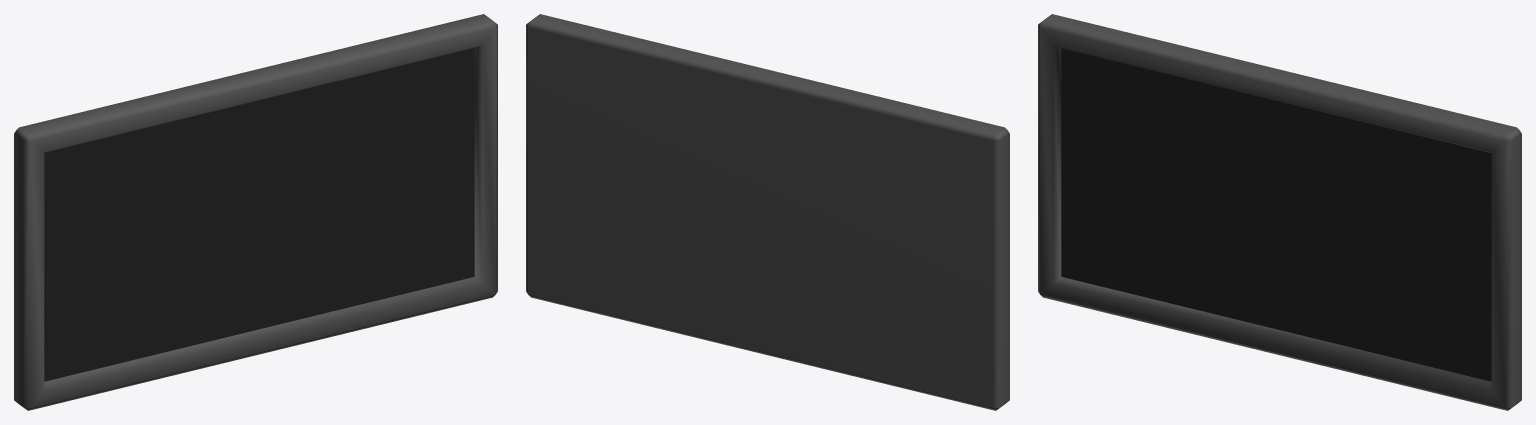
The model's file is electronics_001.fbx.
The picture shows the model from 3 angles, left to right: view 1: azimuth 30°, elevation 25°; view 2: azimuth 150°, elevation 25°; view 3: azimuth 330°, elevation 25°; orthographic projection.
Parts seen in each view (by area): view 1: electronics_001; view 2: electronics_001; view 3: electronics_001.
Boxes of the visible parts, x1,y1,x2,y2 form: electronics_001: (14,14,497,410); electronics_001: (526,14,1009,410); electronics_001: (1038,14,1521,410).
Size of the model in its own units: 161 by 8.7 by 89.86.
